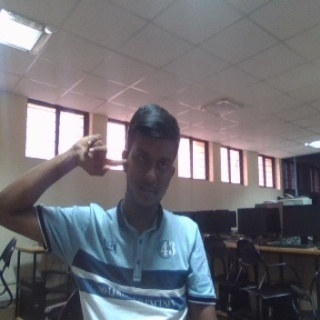Deaf: (66, 133, 127, 178)
Face: (121, 102, 180, 213)
